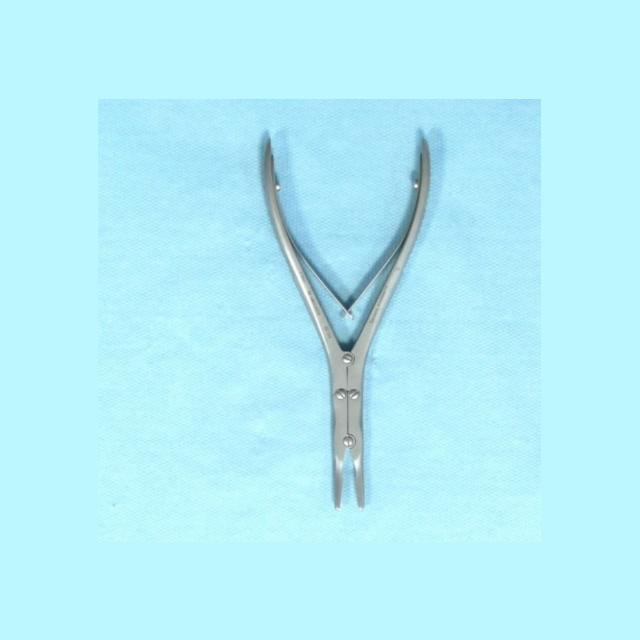gubia: (259, 129, 446, 511)
